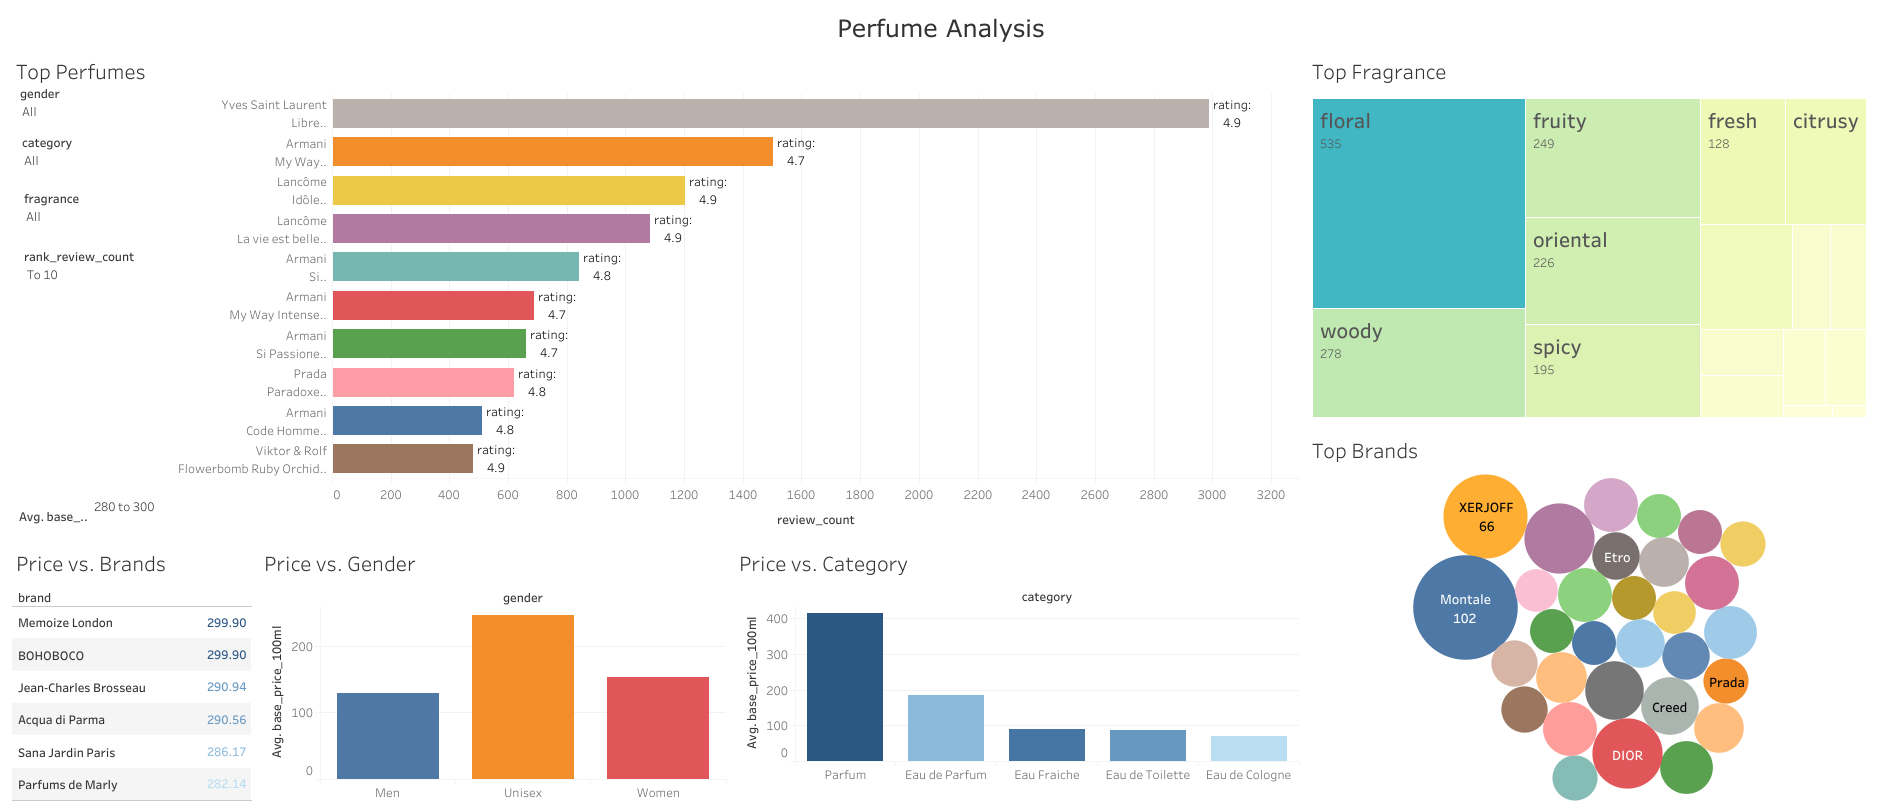

The page's visual inventory and layout, read from the dashboard file:
{"tool":"tableau","page":{"name":"Perfume Analysis","canvas":[650,860],"ordinal":0},"visuals":[{"type":"worksheet","title":"Top Perfumes","mark":"Automatic","rows":["Calculation_1490128578910060545"],"cols":["review_count"],"box":[8,8,78,844]},{"type":"worksheet","title":"Price vs. Gender","mark":"Automatic","rows":["Calculation_1490128578943778822"],"cols":["gender"],"box":[86,8,78,844]},{"type":"filter","title":"Top Perfumes","param":"[federated.13eoq4n0678fm3162cc021brqd1v].[usr:Calculation_1490128578924199939:qk","box":[164,8,160,69]},{"type":"worksheet","title":"Price vs. Category","mark":"Automatic","rows":["Calculation_1490128578943778822"],"cols":["category"],"box":[324,8,318,844]},{"type":"filter","title":"Top Perfumes","param":"[federated.13eoq4n0678fm3162cc021brqd1v].[none:fragrance:nk]","box":[164,77,160,52]},{"type":"filter","title":"Top Perfumes","param":"[federated.13eoq4n0678fm3162cc021brqd1v].[none:gender:nk]","box":[164,129,160,52]},{"type":"filter","title":"Top Perfumes","param":"[federated.13eoq4n0678fm3162cc021brqd1v].[none:category:nk]","box":[164,181,160,52]},{"type":"worksheet","title":"Top Brands","mark":"Circle","box":[164,233,160,99.8]},{"type":"worksheet","title":"Top Fragrance","mark":"Automatic","box":[164,332.7,160,99.8]},{"type":"legend","title":"Top Fragrance","param":"[federated.13eoq4n0678fm3162cc021brqd1v].[cnt:fragrance:qk]","box":[164,432.5,160,65]},{"type":"worksheet","title":"Price vs. Brands","mark":"Automatic","rows":["brand"],"box":[164,497.5,160,99.8]},{"type":"filter","title":"Price vs. Brands","param":"[federated.13eoq4n0678fm3162cc021brqd1v].[avg:Calculation_1490128578943778822:qk","box":[164,597.2,160,69]},{"type":"legend","title":"Price vs. Category","param":"[federated.13eoq4n0678fm3162cc021brqd1v].[none:category:nk]","box":[164,666.2,160,99.8]},{"type":"legend","title":"Price vs. Gender","param":"[federated.13eoq4n0678fm3162cc021brqd1v].[none:gender:nk]","box":[164,766,160,86]}]}

Visuals, with their boxes on the page's 650x860 design canvas (x1, y1, x2, y2). These are canvas units, not pixel positions in the 1881x812 screenshot, which may show the page scaled, cropped or inside an application window:
"Top Perfumes" worksheet: bbox(8, 8, 86, 852)
"Price vs. Gender" worksheet: bbox(86, 8, 164, 852)
"Top Perfumes" filter: bbox(164, 8, 324, 77)
"Price vs. Category" worksheet: bbox(324, 8, 642, 852)
"Top Perfumes" filter: bbox(164, 77, 324, 129)
"Top Perfumes" filter: bbox(164, 129, 324, 181)
"Top Perfumes" filter: bbox(164, 181, 324, 233)
"Top Brands" worksheet (Circle marks): bbox(164, 233, 324, 333)
"Top Fragrance" worksheet: bbox(164, 333, 324, 432)
"Top Fragrance" legend: bbox(164, 432, 324, 498)
"Price vs. Brands" worksheet: bbox(164, 498, 324, 597)
"Price vs. Brands" filter: bbox(164, 597, 324, 666)
"Price vs. Category" legend: bbox(164, 666, 324, 766)
"Price vs. Gender" legend: bbox(164, 766, 324, 852)
